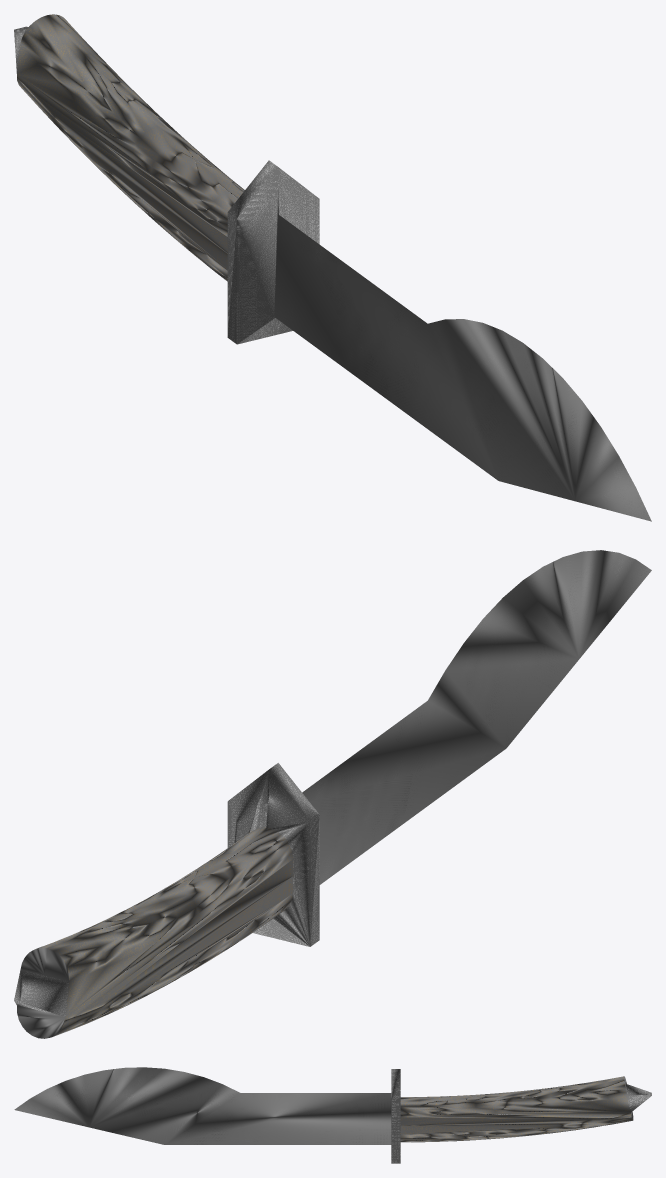
File: model_align.obj
3 views of the same model, one above another, from view 1: azimuth 30°, elevation 25°; view 2: azimuth 150°, elevation 25°; view 3: azimuth 270°, elevation 25° (orthographic). The views are drawn at different scales.
Bounding box in the file's own units: 0.0174 × 0.0344 × 0.2306.
